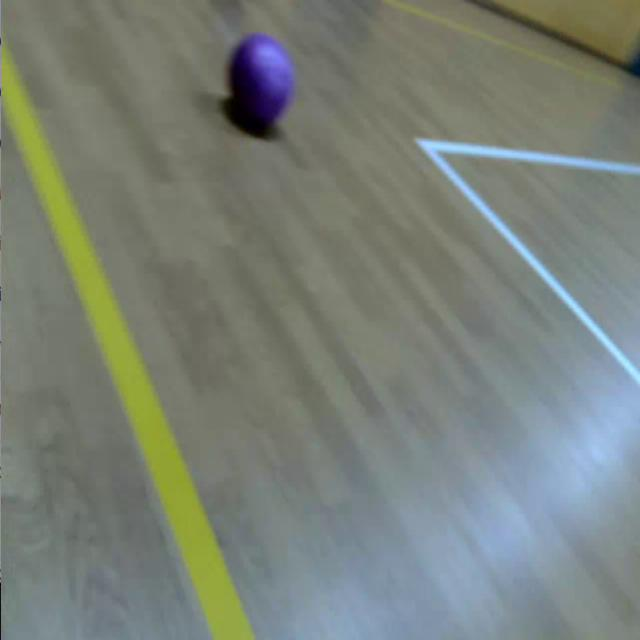purple_ball: (229, 33, 293, 123)
